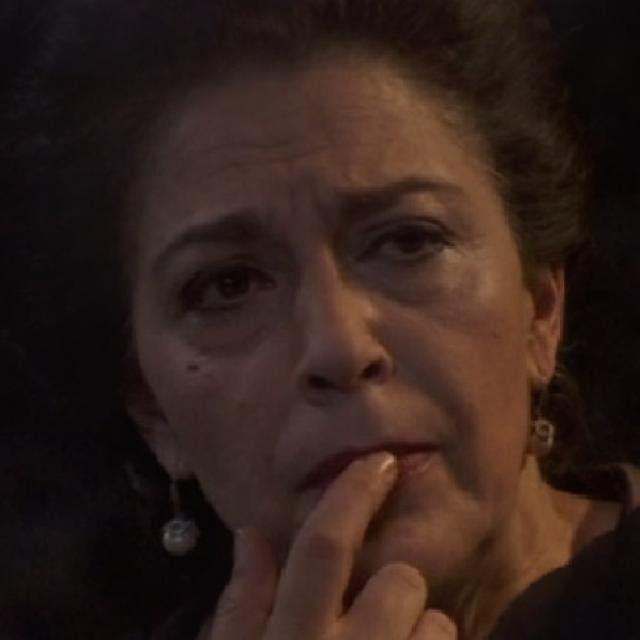Depress: (133, 51, 535, 615)
